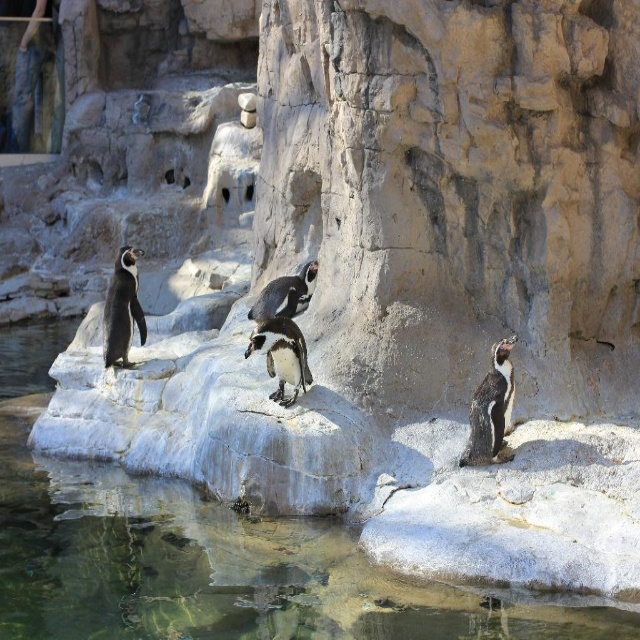Penguin: (452, 330, 527, 460), (94, 238, 142, 378), (244, 317, 312, 403), (246, 259, 318, 333)
